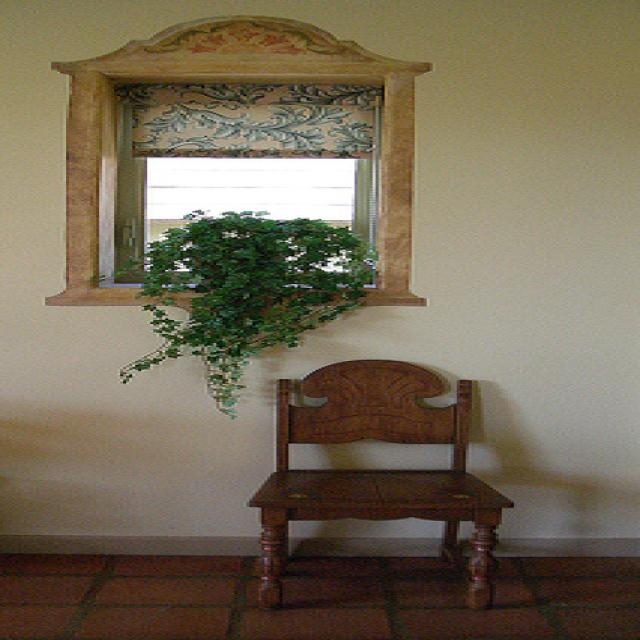chair: (249, 356, 514, 611)
